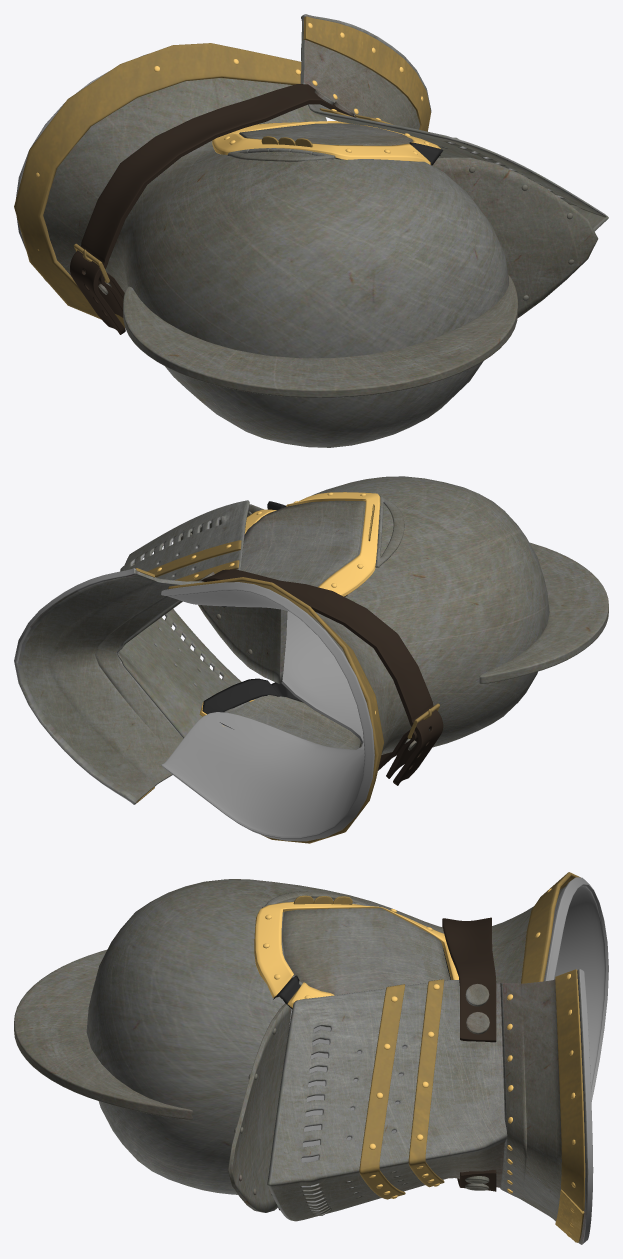
The model's file is 13588_European_CLosed_Helmet_v1_L2.obj.
3 renders of one model, top to bottom at view 1: azimuth 30°, elevation 25°; view 2: azimuth 150°, elevation 25°; view 3: azimuth 270°, elevation 25°, orthographic. The views are drawn at different scales.
Parts seen in each view (by area): view 1: European_Closed_Helmet_4, European_Closed_Helmet_2, European_Closed_Helmet_6, European_Closed_Helmet_7, European_Closed_Helmet_14, European_Closed_Helmet_9, European_Closed_Helmet_5, European_Closed_Helmet_12, European_Closed_Helmet_13, European_Closed_Helmet_10; view 2: European_Closed_Helmet_4, European_Closed_Helmet_9, European_Closed_Helmet_5, European_Closed_Helmet_13, European_Closed_Helmet_14, European_Closed_Helmet_6, European_Closed_Helmet_7, European_Closed_Helmet_2, European_Closed_Helmet_12, European_Closed_Helmet_16, European_Closed_Helmet_10; view 3: European_Closed_Helmet_4, European_Closed_Helmet_5, European_Closed_Helmet_2, European_Closed_Helmet_9, European_Closed_Helmet_13, European_Closed_Helmet_6, European_Closed_Helmet_7, European_Closed_Helmet_14, European_Closed_Helmet_12, European_Closed_Helmet_1, European_Closed_Helmet_3, European_Closed_Helmet_10.
Boxes of the visible parts, x1=… form: European_Closed_Helmet_4: x1=15, y1=54, x2=508, y2=447; European_Closed_Helmet_2: x1=14, y1=16, x2=431, y2=327; European_Closed_Helmet_6: x1=123, y1=275, x2=517, y2=397; European_Closed_Helmet_7: x1=432, y1=157, x2=598, y2=317; European_Closed_Helmet_14: x1=70, y1=84, x2=356, y2=334; European_Closed_Helmet_9: x1=300, y1=14, x2=431, y2=129; European_Closed_Helmet_5: x1=308, y1=104, x2=608, y2=231; European_Closed_Helmet_12: x1=212, y1=121, x2=440, y2=164; European_Closed_Helmet_13: x1=239, y1=123, x2=412, y2=145; European_Closed_Helmet_10: x1=227, y1=148, x2=335, y2=161; European_Closed_Helmet_4: x1=161, y1=476, x2=549, y2=841; European_Closed_Helmet_9: x1=14, y1=568, x2=203, y2=804; European_Closed_Helmet_5: x1=117, y1=500, x2=249, y2=738; European_Closed_Helmet_13: x1=224, y1=500, x2=365, y2=749; European_Closed_Helmet_14: x1=201, y1=569, x2=443, y2=785; European_Closed_Helmet_6: x1=479, y1=542, x2=608, y2=683; European_Closed_Helmet_7: x1=181, y1=504, x2=287, y2=683; European_Closed_Helmet_2: x1=135, y1=540, x2=384, y2=843; European_Closed_Helmet_12: x1=199, y1=492, x2=380, y2=726; European_Closed_Helmet_16: x1=202, y1=501, x2=365, y2=729; European_Closed_Helmet_10: x1=375, y1=496, x2=404, y2=754; European_Closed_Helmet_4: x1=86, y1=877, x2=608, y2=1194; European_Closed_Helmet_5: x1=267, y1=980, x2=507, y2=1221; European_Closed_Helmet_2: x1=359, y1=872, x2=585, y2=1242; European_Closed_Helmet_9: x1=500, y1=969, x2=593, y2=1244; European_Closed_Helmet_13: x1=281, y1=908, x2=450, y2=995; European_Closed_Helmet_6: x1=14, y1=950, x2=192, y2=1119; European_Closed_Helmet_7: x1=228, y1=1003, x2=291, y2=1212; European_Closed_Helmet_14: x1=442, y1=917, x2=496, y2=1191; European_Closed_Helmet_12: x1=254, y1=902, x2=458, y2=1007; European_Closed_Helmet_1: x1=465, y1=983, x2=489, y2=1190; European_Closed_Helmet_3: x1=263, y1=888, x2=575, y2=1237; European_Closed_Helmet_10: x1=262, y1=891, x2=374, y2=907.
Bounding box in the file's own units: 18.05 × 10.22 × 18.44.
6 materials, 3 textured.
